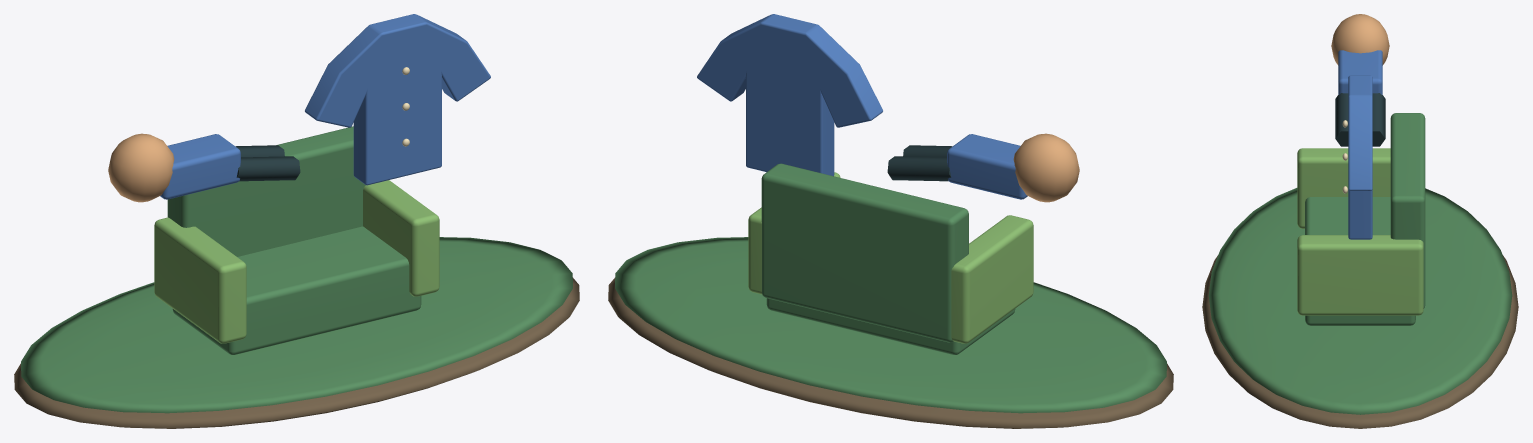
The model's file is complete-second-relaxed-clothes.glb.
The picture shows the model from 3 angles, left to right: view 1: azimuth 30°, elevation 25°; view 2: azimuth 150°, elevation 25°; view 3: azimuth 270°, elevation 25°; orthographic projection. The views are drawn at different scales.
Visible parts, largest first — view 1: complete-second-relaxed-clothes_surface_01, complete-second-relaxed-clothes_surface_03, complete-second-relaxed-clothes_surface_06, complete-second-relaxed-clothes_surface_00, complete-second-relaxed-clothes_surface_02, complete-second-relaxed-clothes_surface_04; view 2: complete-second-relaxed-clothes_surface_01, complete-second-relaxed-clothes_surface_03, complete-second-relaxed-clothes_surface_00, complete-second-relaxed-clothes_surface_06, complete-second-relaxed-clothes_surface_02, complete-second-relaxed-clothes_surface_04; view 3: complete-second-relaxed-clothes_surface_01, complete-second-relaxed-clothes_surface_06, complete-second-relaxed-clothes_surface_00, complete-second-relaxed-clothes_surface_03, complete-second-relaxed-clothes_surface_02, complete-second-relaxed-clothes_surface_04.
Boxes of the visible parts, bbox=[...] form: complete-second-relaxed-clothes_surface_01: bbox=[21, 126, 572, 413]; complete-second-relaxed-clothes_surface_03: bbox=[160, 14, 490, 199]; complete-second-relaxed-clothes_surface_06: bbox=[154, 180, 439, 343]; complete-second-relaxed-clothes_surface_00: bbox=[14, 277, 579, 428]; complete-second-relaxed-clothes_surface_02: bbox=[108, 133, 174, 202]; complete-second-relaxed-clothes_surface_04: bbox=[235, 145, 300, 181]; complete-second-relaxed-clothes_surface_01: bbox=[615, 163, 1166, 413]; complete-second-relaxed-clothes_surface_03: bbox=[697, 14, 1027, 199]; complete-second-relaxed-clothes_surface_00: bbox=[608, 277, 1173, 428]; complete-second-relaxed-clothes_surface_06: bbox=[748, 172, 1033, 343]; complete-second-relaxed-clothes_surface_02: bbox=[1013, 133, 1079, 202]; complete-second-relaxed-clothes_surface_04: bbox=[887, 145, 952, 181]; complete-second-relaxed-clothes_surface_01: bbox=[1208, 113, 1512, 414]; complete-second-relaxed-clothes_surface_06: bbox=[1297, 148, 1423, 315]; complete-second-relaxed-clothes_surface_00: bbox=[1202, 255, 1518, 428]; complete-second-relaxed-clothes_surface_03: bbox=[1338, 50, 1382, 239]; complete-second-relaxed-clothes_surface_02: bbox=[1331, 14, 1389, 65]; complete-second-relaxed-clothes_surface_04: bbox=[1335, 93, 1385, 146].
Bounding box in the file's own units: 4.56 × 2.46 × 2.5.
